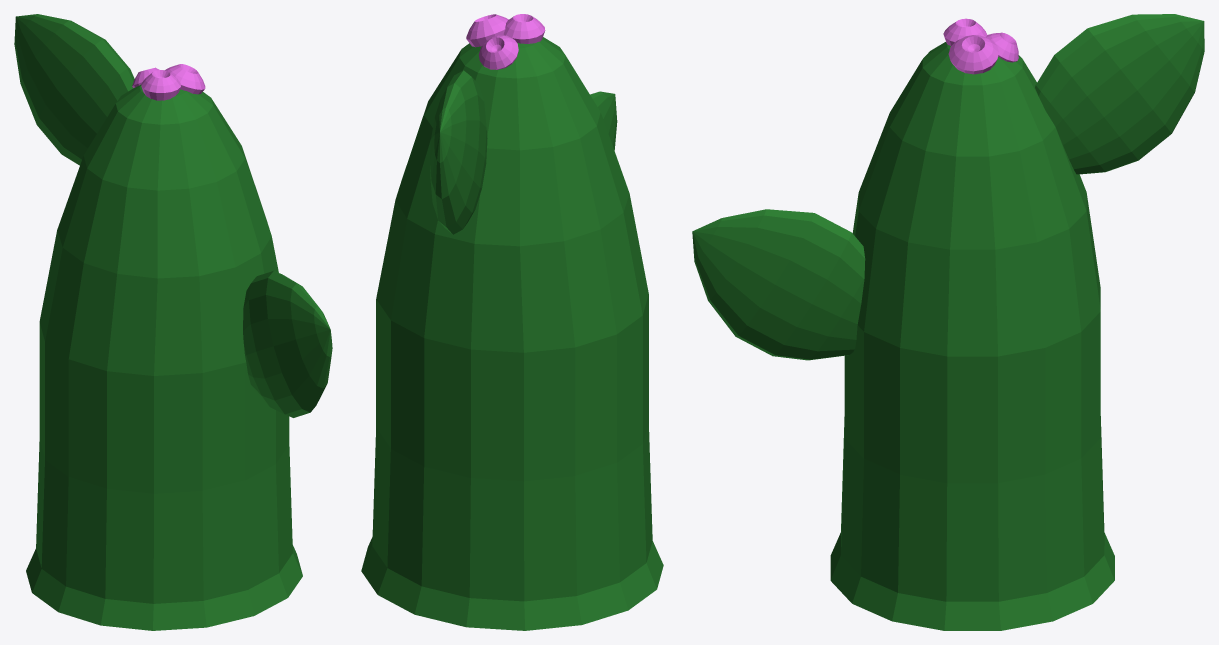
The model's file is Mdl_Cactus_Medium_.fbx.
3 renders of one model, left to right at view 1: azimuth 30°, elevation 25°; view 2: azimuth 150°, elevation 25°; view 3: azimuth 270°, elevation 25°, orthographic. The views are drawn at different scales.
Visible parts, largest first — view 1: Mdl_Cactus_Medium_; view 2: Mdl_Cactus_Medium_; view 3: Mdl_Cactus_Medium_.
Boxes of the visible parts, x1,y1,x2,y2 form: Mdl_Cactus_Medium_: (14,14,332,630); Mdl_Cactus_Medium_: (361,14,663,630); Mdl_Cactus_Medium_: (692,14,1204,630).
Size of the model in its own units: 1.97 by 3.98 by 3.41.
